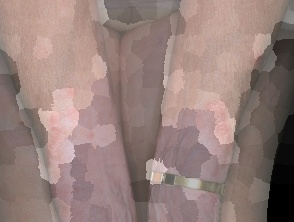vitiligo: (12, 0, 145, 222), (140, 13, 278, 222)
